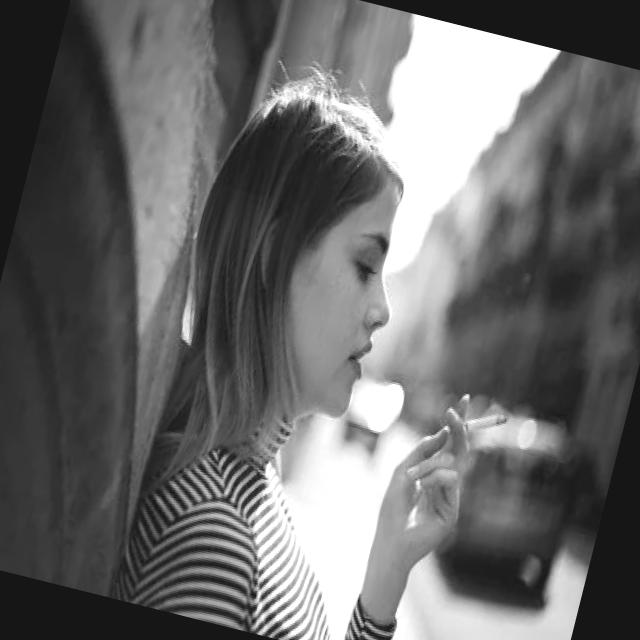smoke: (450, 394, 510, 450)
